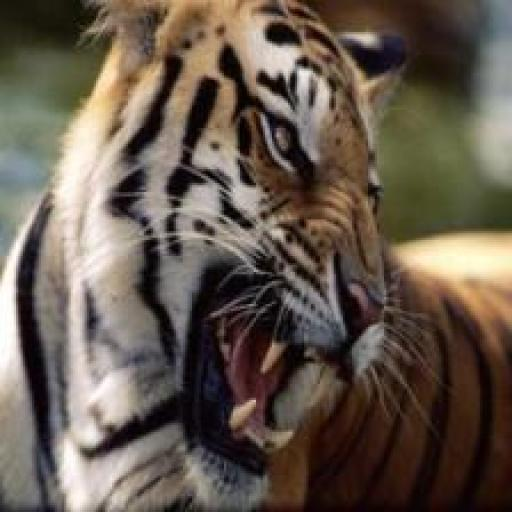Tiger: (4, 0, 512, 511)
